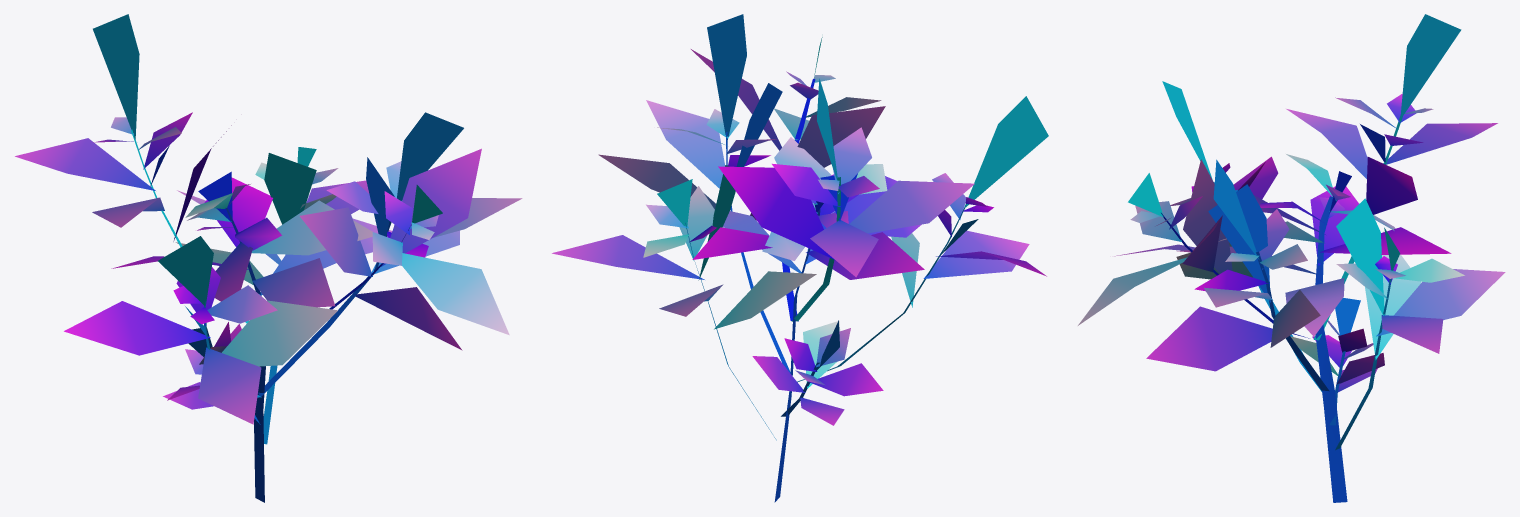
The model's file is xefmcgrqx_VarD_LOD2.fbx.
The picture shows the model from 3 angles, left to right: view 1: azimuth 30°, elevation 25°; view 2: azimuth 150°, elevation 25°; view 3: azimuth 270°, elevation 25°; orthographic projection. The views are drawn at different scales.
Visible parts, largest first — view 1: _476v_VarD_LOD5; view 2: _476v_VarD_LOD5; view 3: _476v_VarD_LOD5.
Boxes of the visible parts, box(x1,y1,x2,y2) form: _476v_VarD_LOD5: box(15, 14, 522, 502); _476v_VarD_LOD5: box(552, 14, 1048, 502); _476v_VarD_LOD5: box(1078, 14, 1505, 502).
Bounding box in the file's own units: 59.46 × 62.75 × 54.36.
